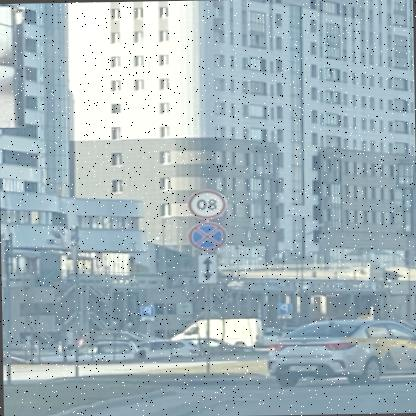speedlimit: (190, 188, 228, 216)
